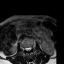CCS_stenosis: (27, 44, 29, 53)
LFS_normal: (31, 43, 33, 50)
LLS_normal: (29, 44, 31, 52)
RFS_normal: (23, 45, 25, 51)
RLS_normal: (25, 45, 27, 52)
